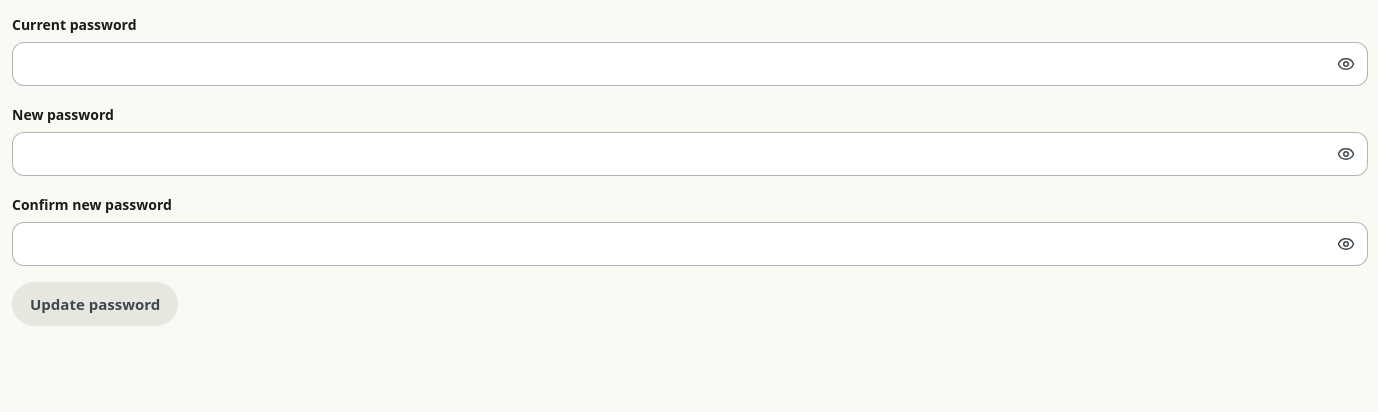
Scenario: ChangePasswordForm › offers the emailed recovery flow when the account has no password yet
Type "anything" into the password field labelled "Current password" at coordinates (690, 64), box [12,42,1368,86]
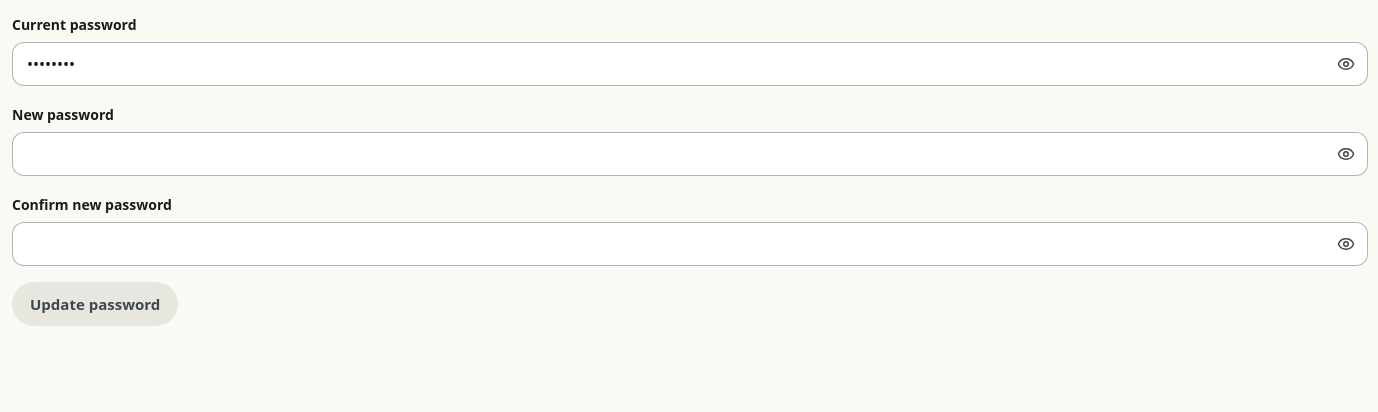
Type "new-password-123" into the password field labelled "New password" at coordinates (690, 154), box [12,132,1368,176]
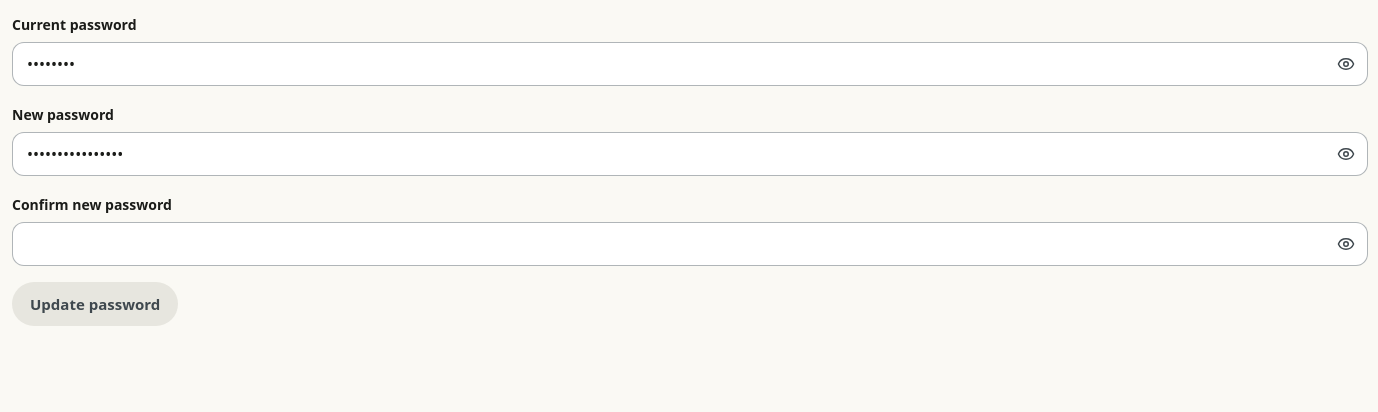
Type "new-password-123" into the password field labelled "Confirm new password" at coordinates (690, 244), box [12,222,1368,266]
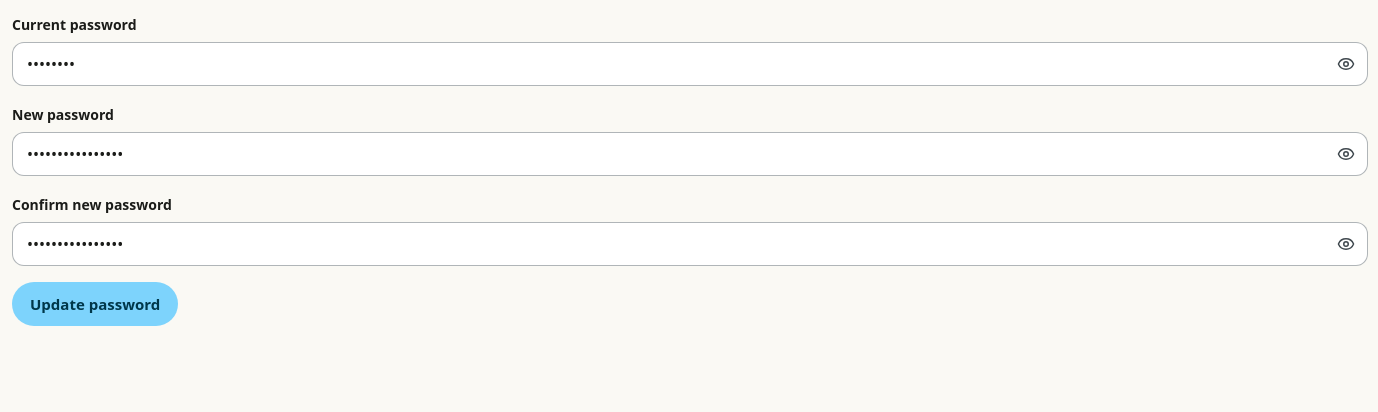
Click the button named "Update password" at coordinates (95, 304), box [12,282,178,326]
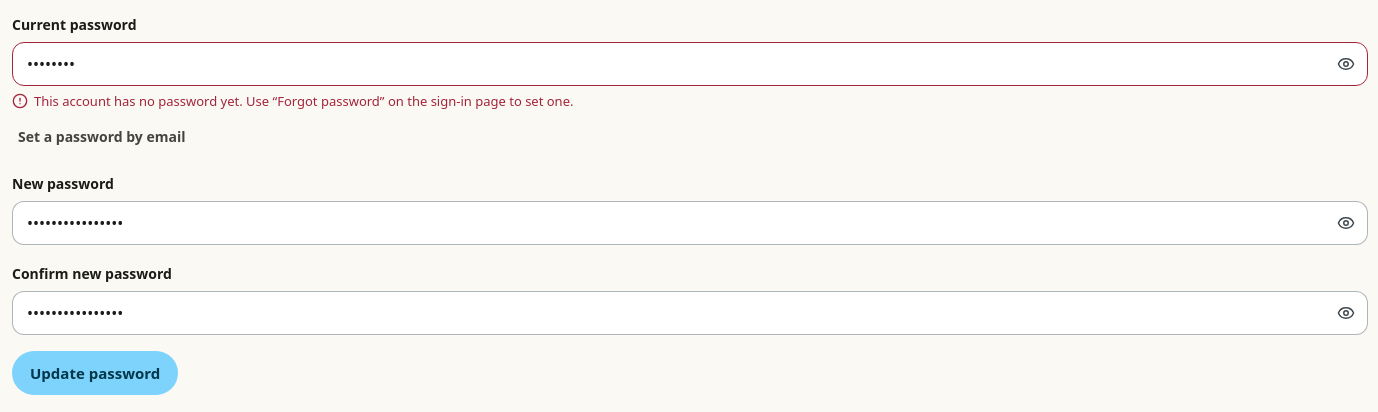
Result: the message shows "This account has no password yet. Use “Forgot password” on the sign-in page to set one." at [34,92,574,110]
